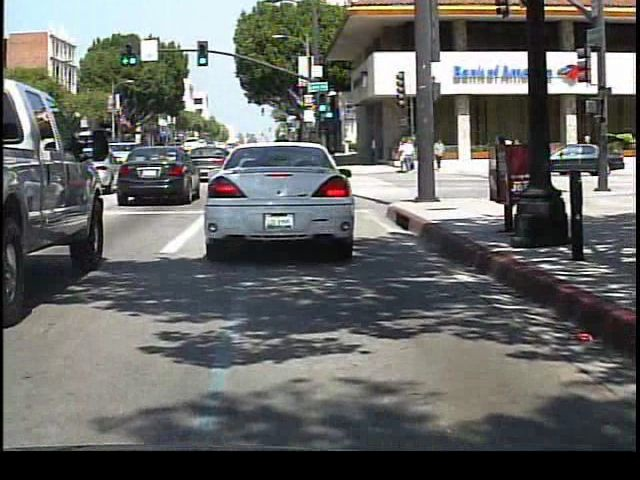person: (496, 134, 517, 174), (401, 136, 416, 177), (434, 135, 449, 171)
